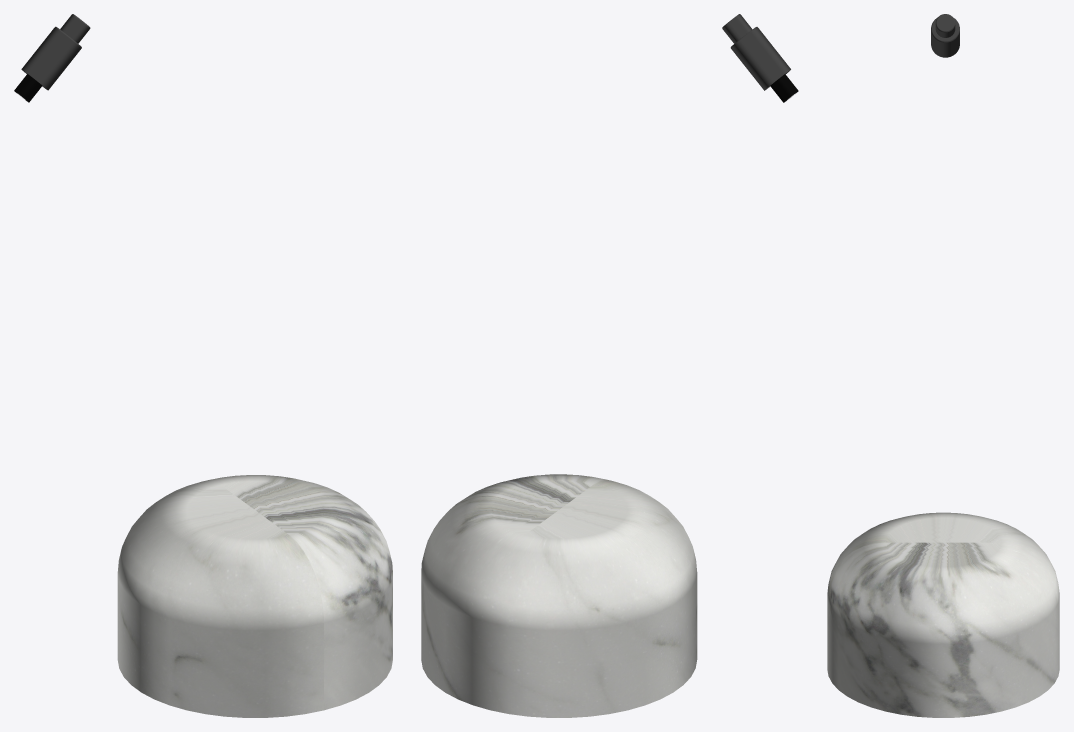
The model's file is Vector.glb.
3 renders of one model, left to right at view 1: azimuth 30°, elevation 25°; view 2: azimuth 150°, elevation 25°; view 3: azimuth 270°, elevation 25°, orthographic. The views are drawn at different scales.
Parts seen in each view (by area): view 1: Base, Lamp; view 2: Base, Lamp; view 3: Base, Lamp.
Part boxes in pixels (x1,y1,x2,y2): Base: (117,475,392,717); Lamp: (14,14,90,102); Base: (421,474,697,717); Lamp: (722,14,798,102); Base: (827,512,1059,717); Lamp: (931,14,959,57).
Bounding box in the file's own units: 0.1685 × 0.3099 × 0.1125.
Materials: 6 (1 with a texture image).
